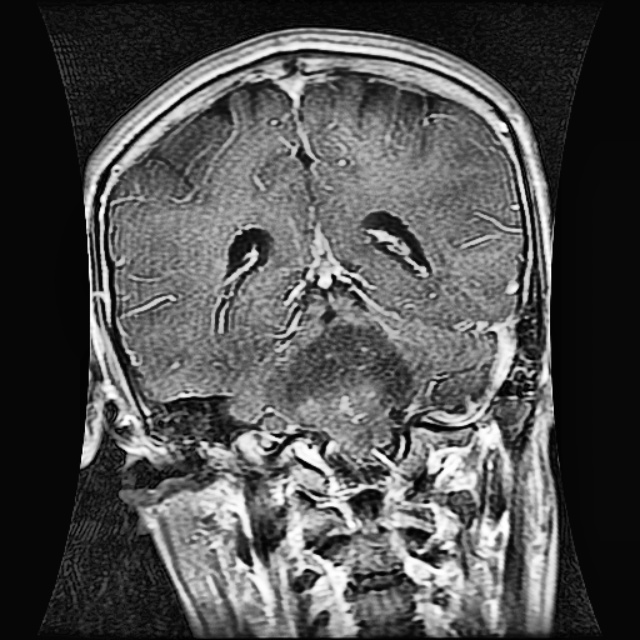Meningioma: (270, 324, 413, 440)
